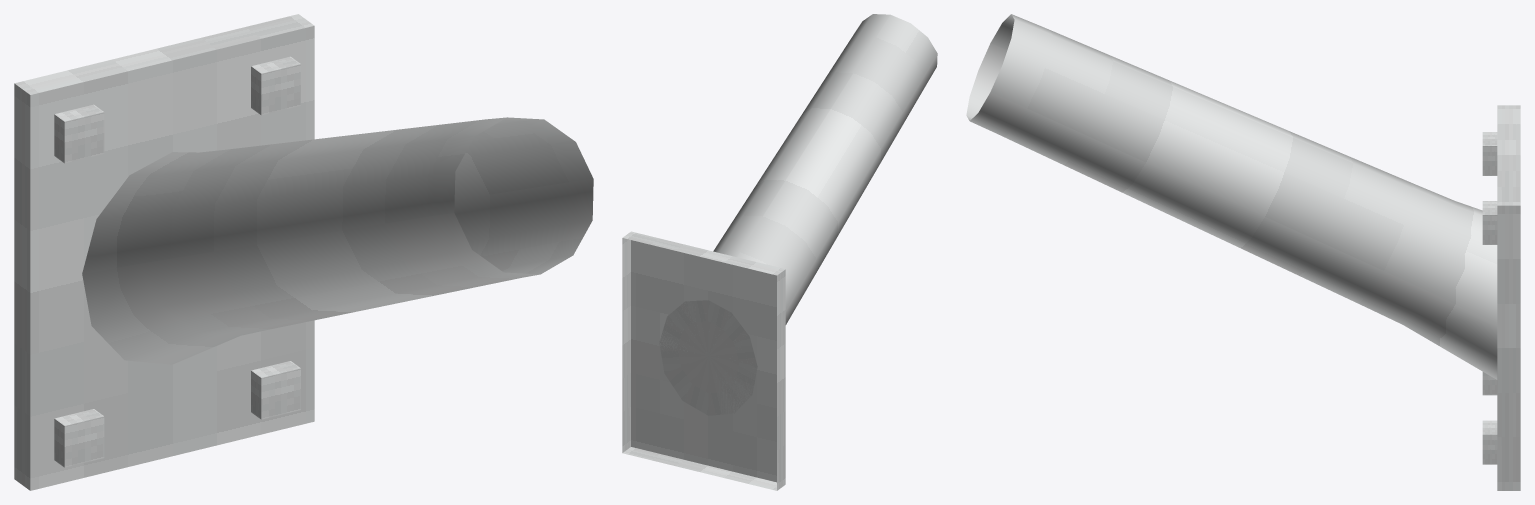
File: luminairearm_caltrans6ftstraightdouble_c3_wall.obj
The picture shows the model from 3 angles, left to right: view 1: azimuth 30°, elevation 25°; view 2: azimuth 150°, elevation 25°; view 3: azimuth 270°, elevation 25°; orthographic projection. The views are drawn at different scales.
Visible parts, largest first — view 1: luminairearm_caltrans6ftstraightdouble_c3_wall; view 2: luminairearm_caltrans6ftstraightdouble_c3_wall; view 3: luminairearm_caltrans6ftstraightdouble_c3_wall.
Boxes of the visible parts, bbox=[...] form: luminairearm_caltrans6ftstraightdouble_c3_wall: bbox=[14, 14, 593, 490]; luminairearm_caltrans6ftstraightdouble_c3_wall: bbox=[622, 14, 937, 490]; luminairearm_caltrans6ftstraightdouble_c3_wall: bbox=[966, 14, 1520, 490].
Bounding box in the file's own units: 0.4465 × 0.8764 × 1.05.
